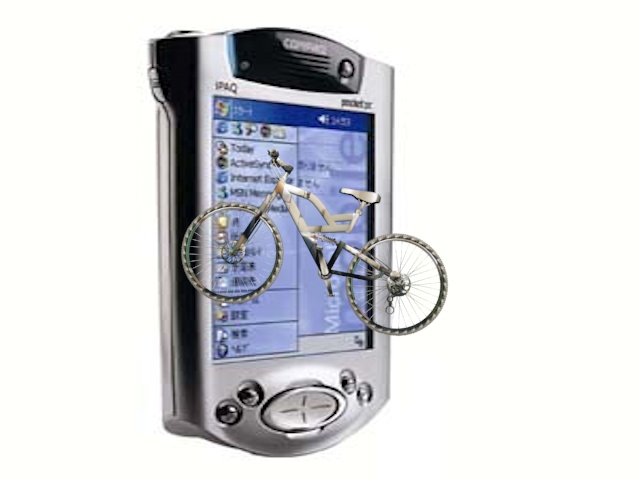bike: (177, 145, 456, 338)
